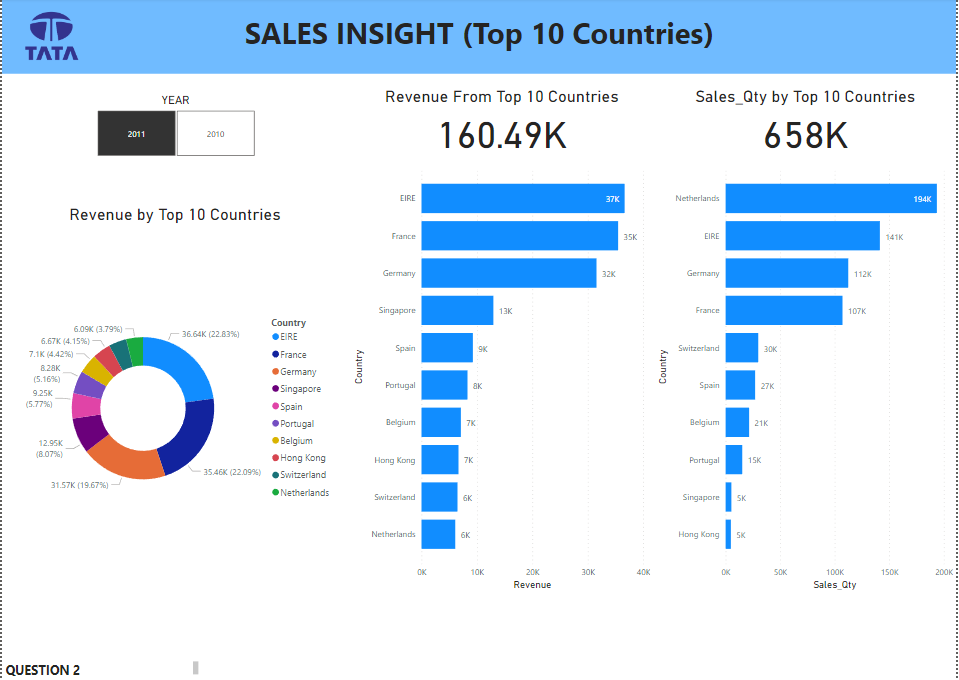

This screenshot's page, from the dashboard's own definition file:
{"tool":"powerbi","page":{"name":"Question 2","canvas":[1400,1000],"ordinal":1},"visuals":[{"type":"slicer","title":"YEAR","fields":{"Values":["Online Retail.Year"]},"box":[113.9,139,279.7,98.8],"z":0},{"type":"barChart","title":"Sales_Qty by Top 10 Countries","fields":{"Category":["Online Retail.Country"],"Y":["Base Measure.Sales_Qty"]},"box":[956.2,237.8,443.8,634.7],"z":1000},{"type":"barChart","title":"Revenue From Top 10 Countries","fields":{"Category":["Online Retail.Country"],"Y":["Base Measure.Revenue"]},"box":[510.8,237.8,445.5,634.7],"z":2000},{"type":"textbox","box":[0,0,1400,110.5],"z":3000},{"type":"textbox","box":[0,967.9,293.1,31.8],"z":4000},{"type":"donutChart","title":"Revenue by Top 10 Countries","fields":{"Category":["Online Retail.Country"],"Y":["Base Measure.Revenue"]},"box":[13.4,303.1,480.6,569.4],"z":5000},{"type":"card","title":"Revenue From Top 10 Countries","fields":{"Values":["Base Measure.Revenue"]},"box":[510.8,130.6,445.5,100.5],"z":5001},{"type":"card","title":"Sales_Qty by Top 10 Countries","fields":{"Values":["Base Measure.Sales_Qty"]},"box":[956.2,130.6,443.8,100.5],"z":5002}]}

Visuals, with their boxes in screenshot pixels (x1, y1, x2, y2), scaled from the page's 1400x1000 canvas onto the 959x680 screenshot:
"YEAR" slicer: select_region(78, 95, 270, 162)
"Sales_Qty by Top 10 Countries" barChart: select_region(655, 162, 958, 593)
"Revenue From Top 10 Countries" barChart: select_region(350, 162, 655, 593)
textbox: select_region(0, 0, 958, 75)
textbox: select_region(0, 658, 201, 679)
"Revenue by Top 10 Countries" donutChart: select_region(9, 206, 338, 593)
"Revenue From Top 10 Countries" card: select_region(350, 89, 655, 157)
"Sales_Qty by Top 10 Countries" card: select_region(655, 89, 958, 157)
